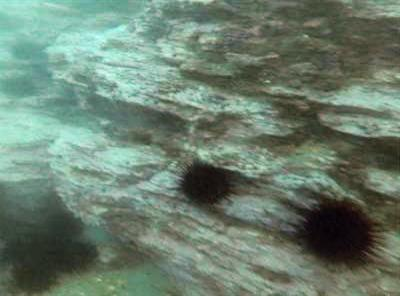urchin: (298, 194, 378, 265), (176, 159, 235, 204), (52, 237, 100, 271), (11, 259, 60, 291), (38, 212, 84, 240), (6, 230, 51, 258)
